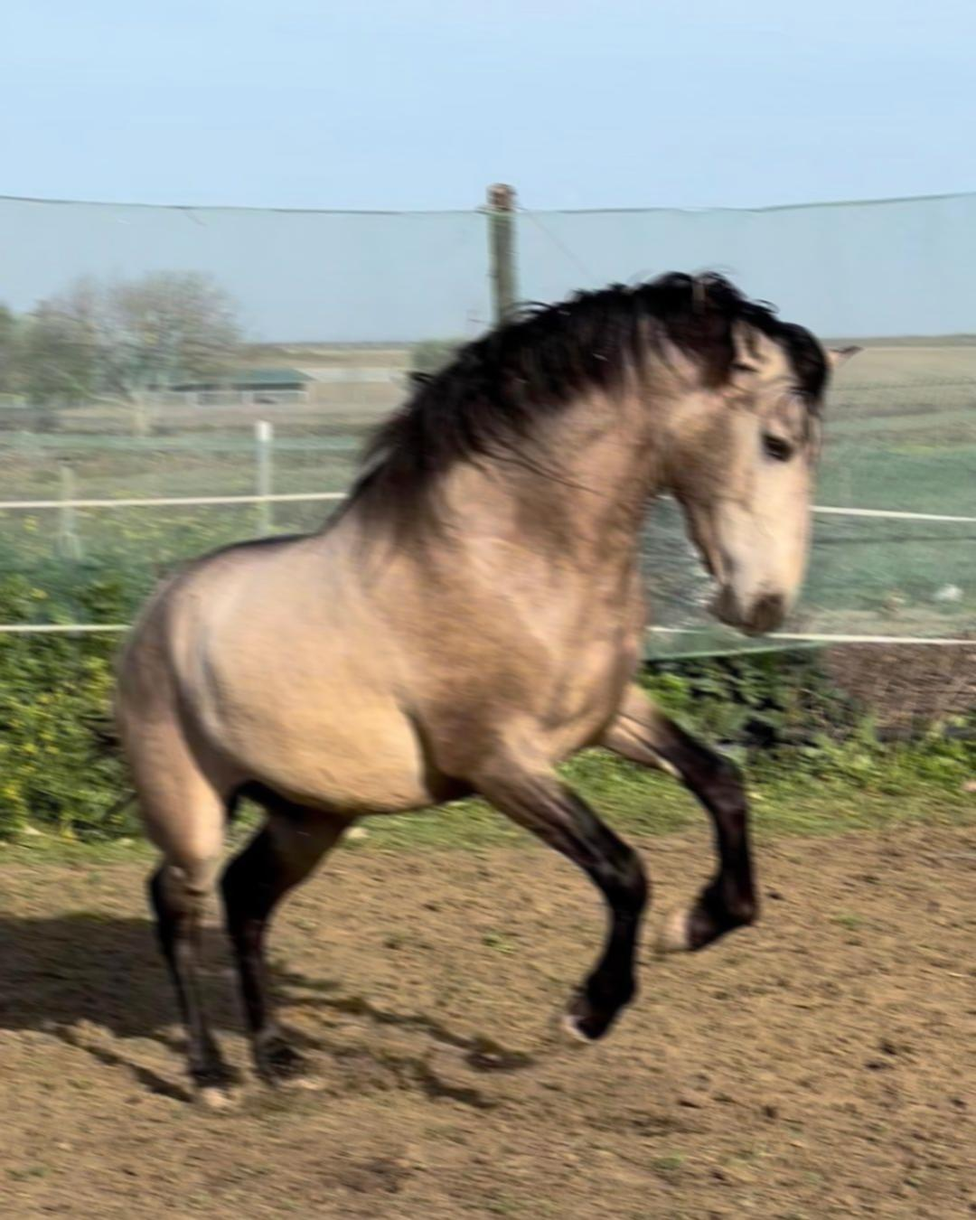horse: (72, 265, 862, 1096)
